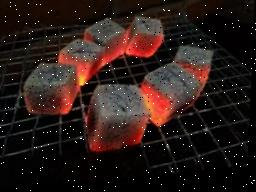cube: (87, 85, 150, 156), (144, 64, 201, 131), (25, 60, 79, 120), (57, 38, 104, 88), (124, 17, 166, 62)
